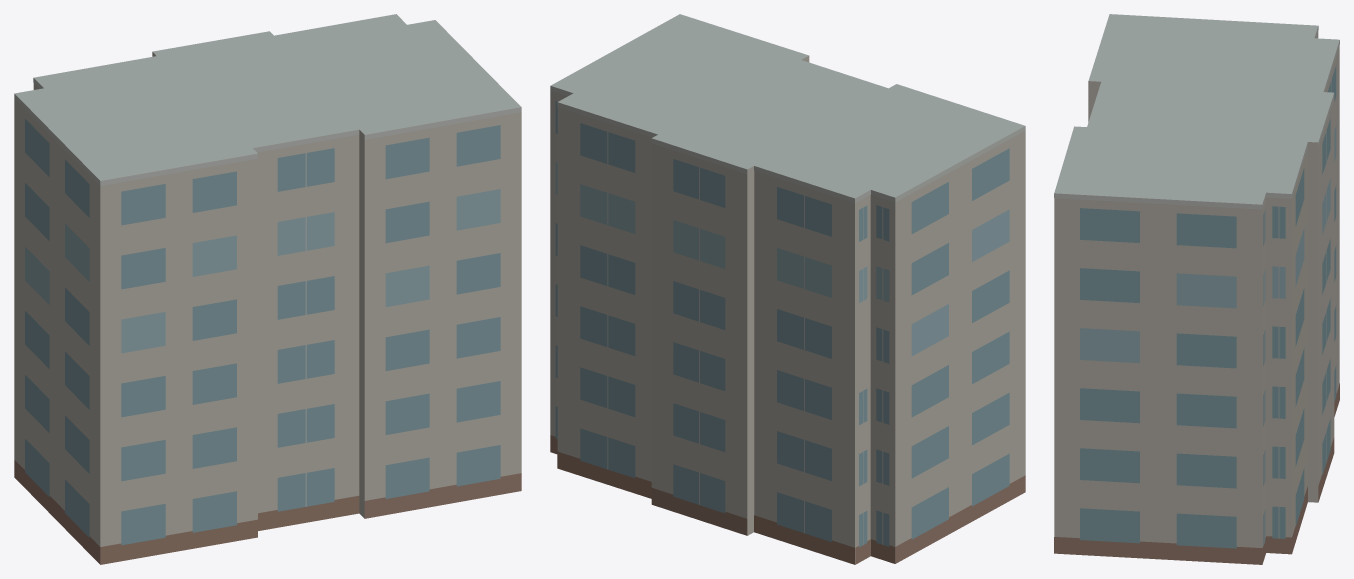
Rendered from survey-upis-32630352.glb.
The picture shows the model from 3 angles, left to right: view 1: azimuth 30°, elevation 25°; view 2: azimuth 150°, elevation 25°; view 3: azimuth 270°, elevation 25°; orthographic projection. The views are drawn at different scales.
Parts seen in each view (by area): view 1: survey-upis-32630352.tmp; view 2: survey-upis-32630352.tmp; view 3: survey-upis-32630352.tmp.
Part boxes in pixels (x1=…): survey-upis-32630352.tmp: x1=14, y1=14, x2=521, y2=564; survey-upis-32630352.tmp: x1=550, y1=14, x2=1025, y2=564; survey-upis-32630352.tmp: x1=1054, y1=14, x2=1339, y2=564.
Bounding box in the file's own units: 21.01 × 18.5 × 13.31.
